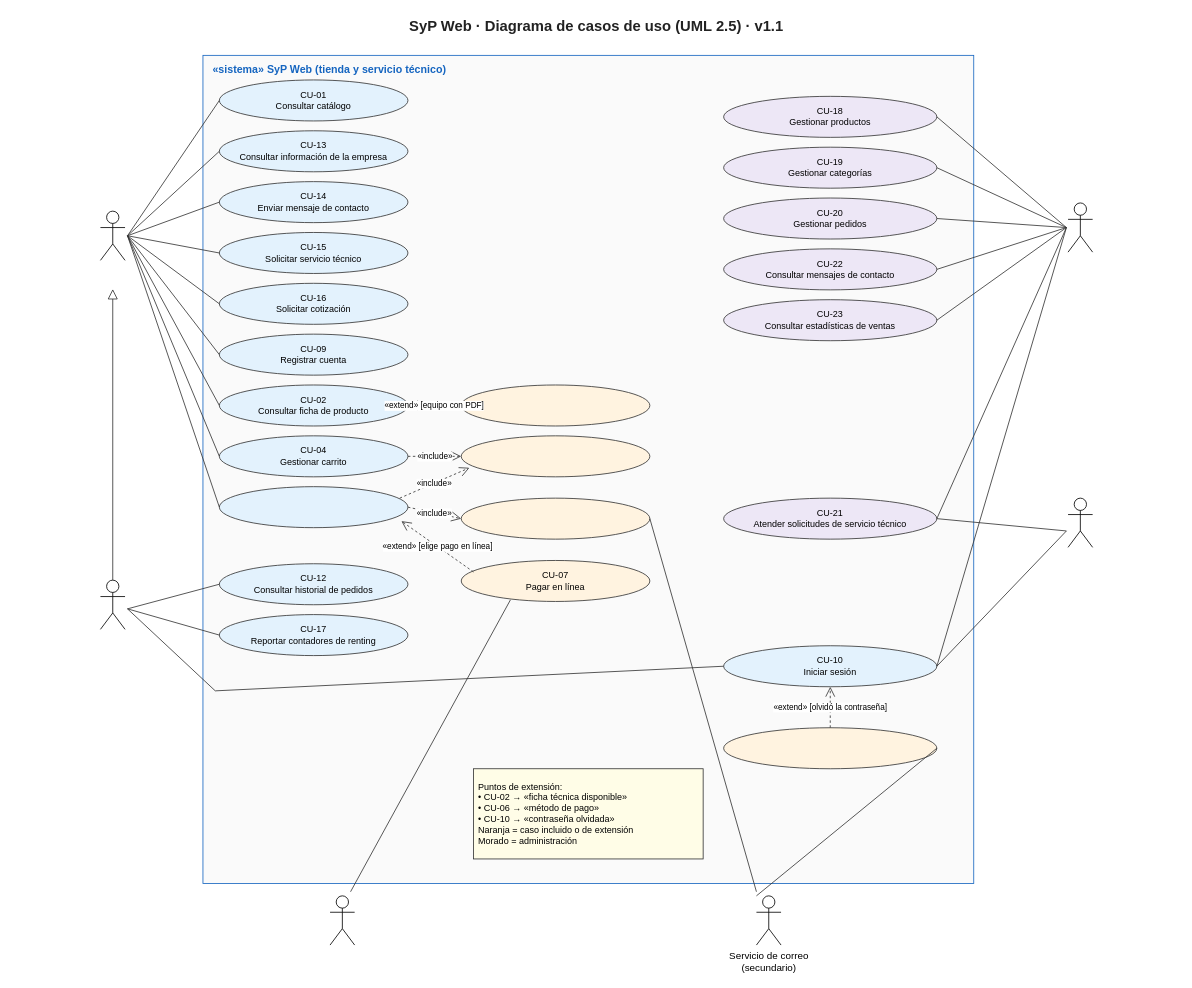
This 1192x988 diagram has some shape labels left out. The centre of each missing label's shape, as x and y in pixels:
"Administrador" goes at point (1080, 227).
"Cliente registrado" goes at point (112, 604).
"CU-03 Descargar ficha técnica" goes at point (555, 405).
"CU-05 Calcular total del pedido" goes at point (555, 456).
"CU-06 Realizar pedido" goes at point (313, 507).
"CU-08 Enviar confirmación de pedido" goes at point (555, 518).
"CU-11 Recuperar contraseña" goes at point (830, 748).
"Pasarela de pagos (secundario)" goes at point (342, 920).
"Técnico de soporte" goes at point (1080, 522).
"Visitante" goes at point (112, 235).
